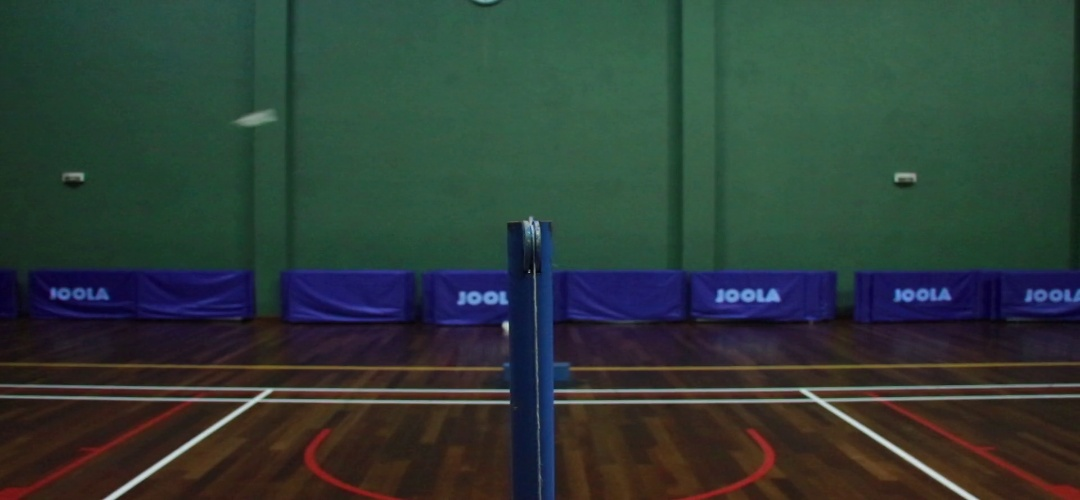c1: (241, 395, 271, 408)
c2: (799, 394, 842, 408)
net_level: (507, 221, 553, 291)
shuttle: (228, 109, 282, 130)
